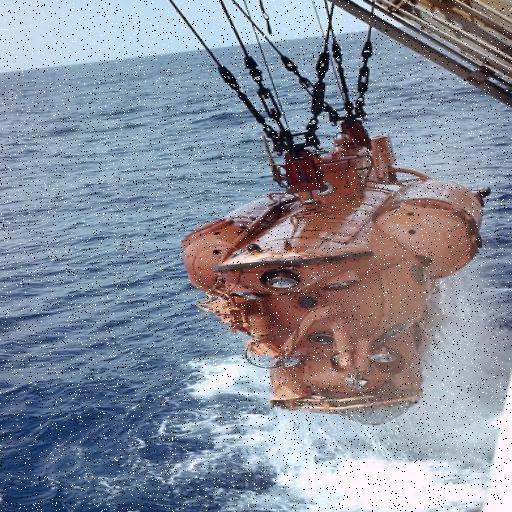submarine: (183, 133, 490, 434)
